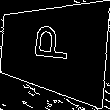P_W: (33, 28, 75, 70)
